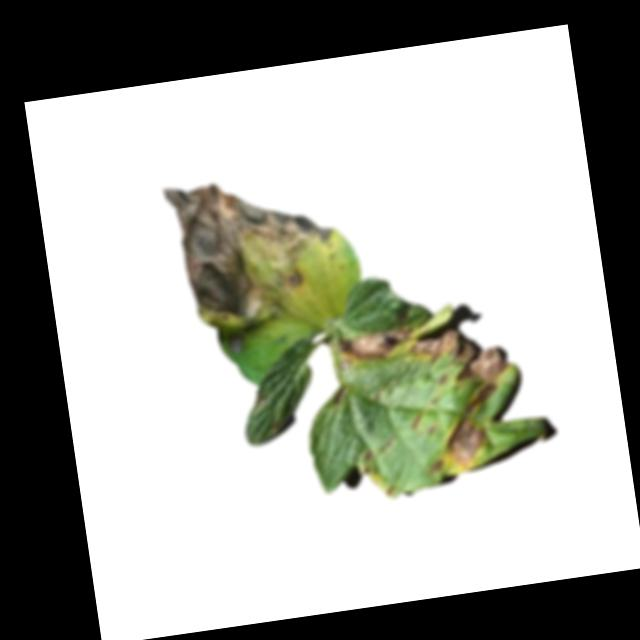Early_blight: (161, 163, 347, 327), (408, 322, 514, 393), (438, 382, 509, 471), (335, 324, 415, 365), (224, 330, 248, 356), (328, 383, 351, 407), (428, 455, 448, 475)
